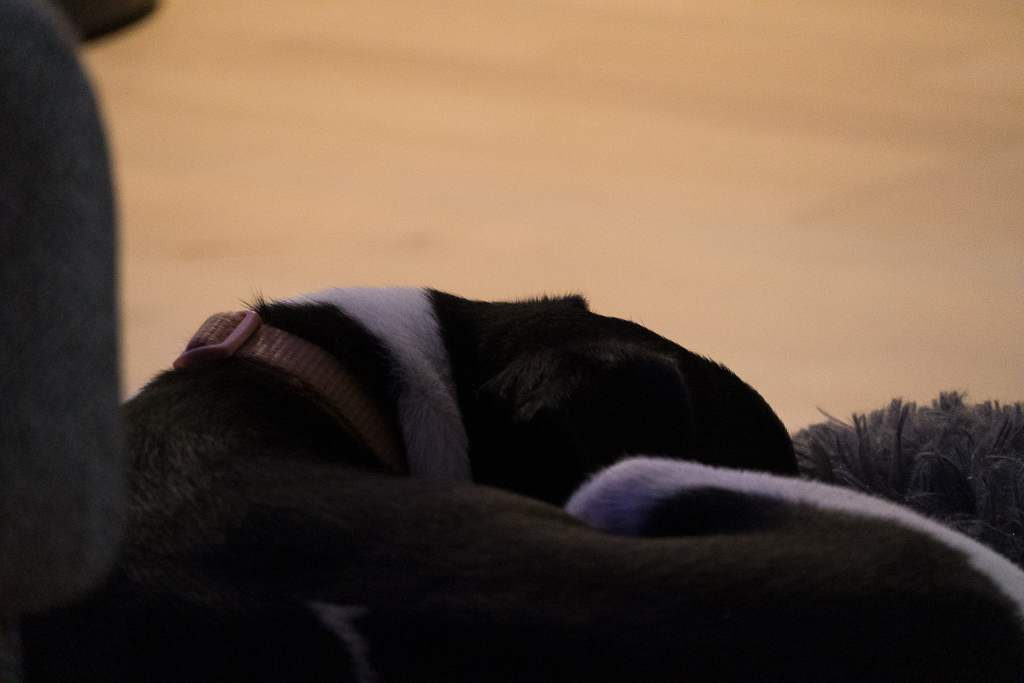Dog: (18, 272, 1024, 683)
